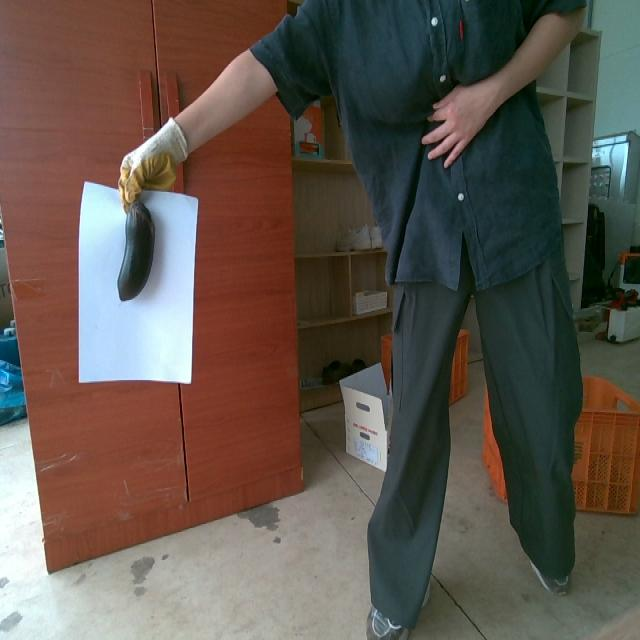Egg plant: (117, 201, 154, 300)
